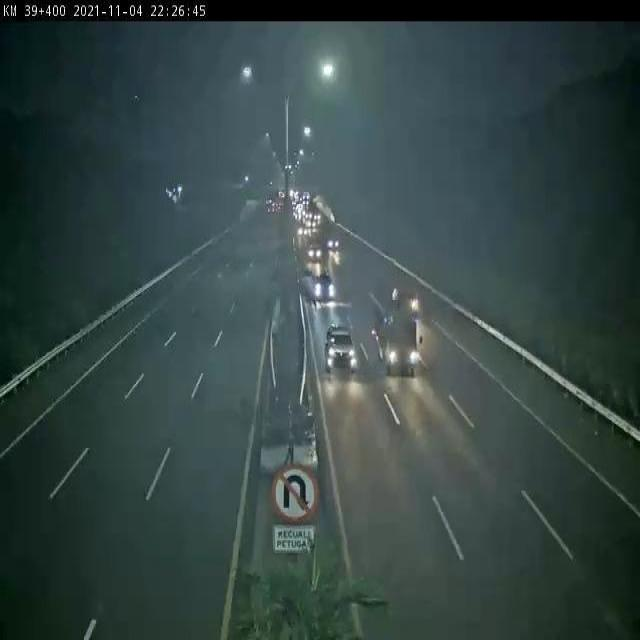Car: (326, 322, 355, 374), (315, 274, 336, 299), (308, 244, 322, 260), (328, 237, 340, 250)
Truck: (376, 313, 419, 377)
